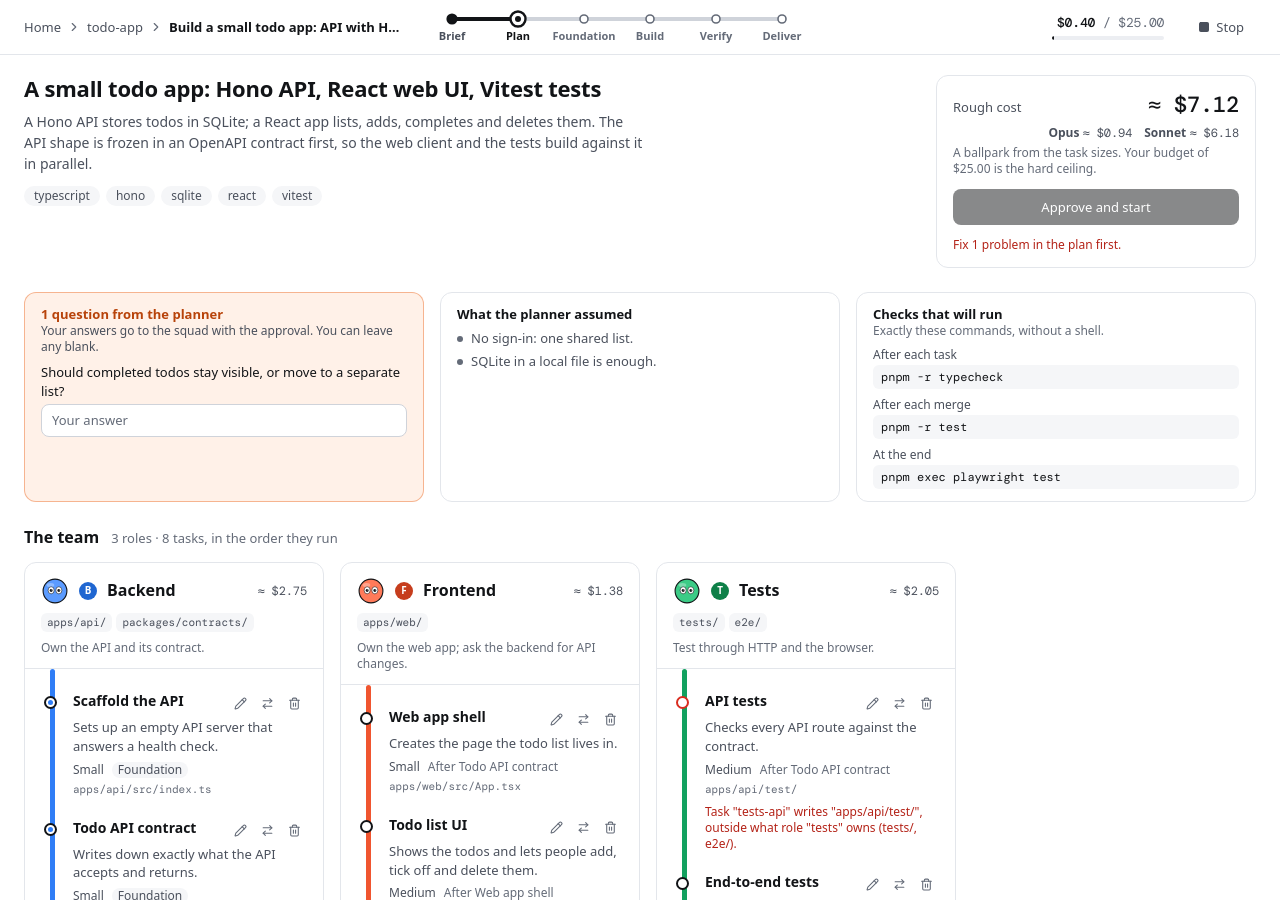
Test case: Board › pins validation issues to the card and holds Approve until they're fixed
The width and height of the screenshot is (1280, 900).
Check: the button "Approve and start" is disabled, box 953,189 -> 1239,225
Check: the text "Fix 1 problem in the plan first." is shown, box 953,236 -> 1121,253
Click the button named "Remove API tests" at [926, 704], box 914,692 -> 939,716
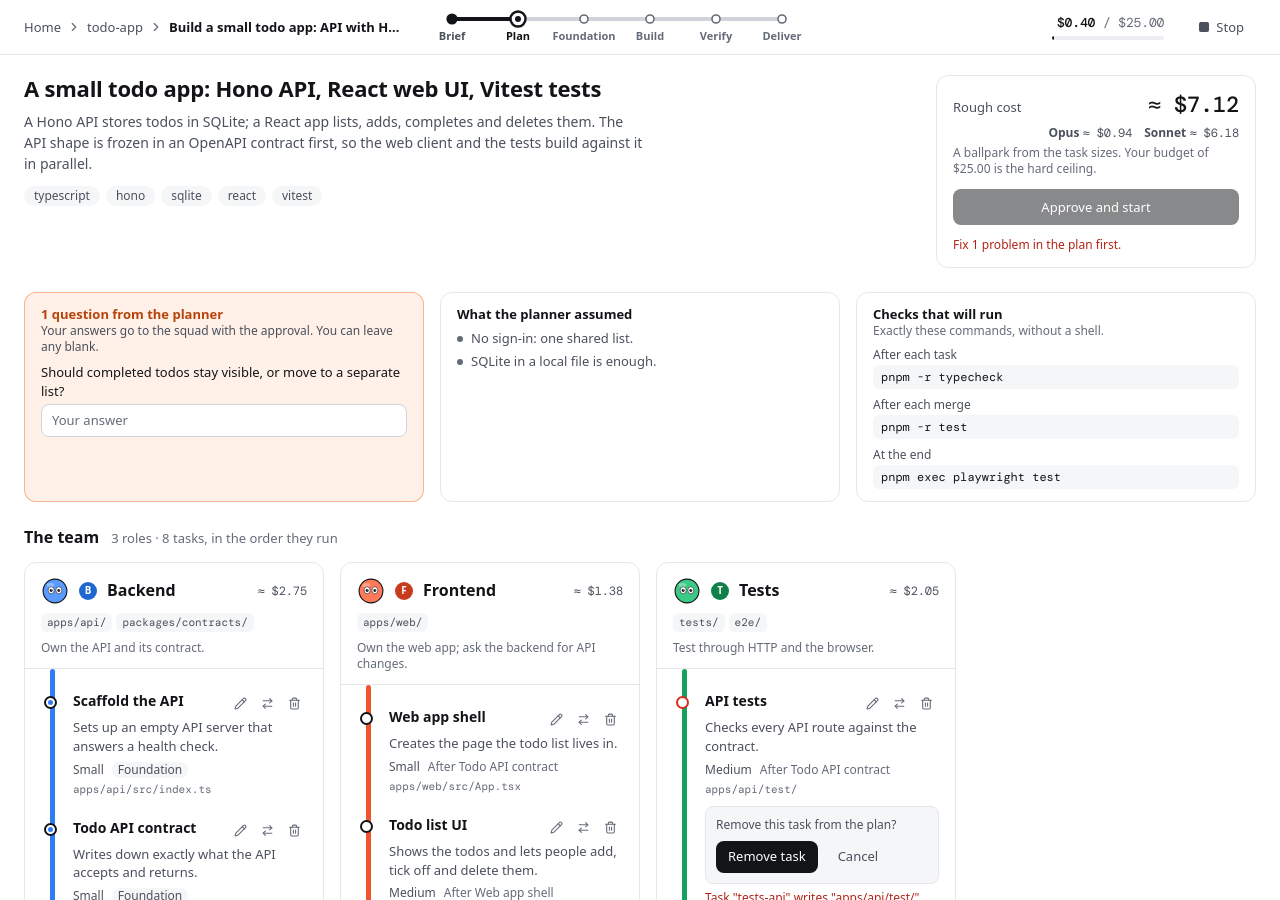
Click the button "Remove task" at [767, 856], box 716,840 -> 818,872
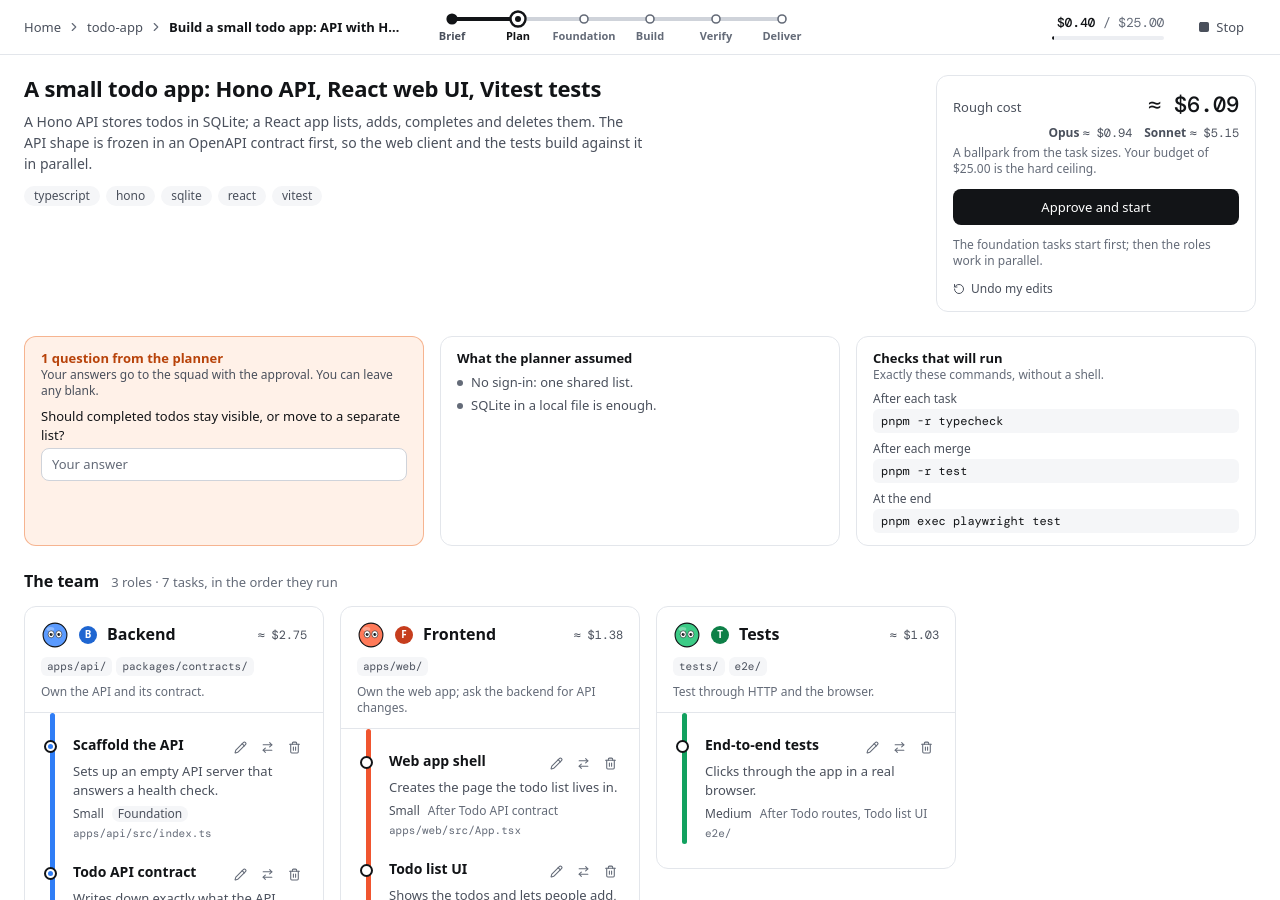
Check: the button "Approve and start" is enabled, box 953,189 -> 1239,225
